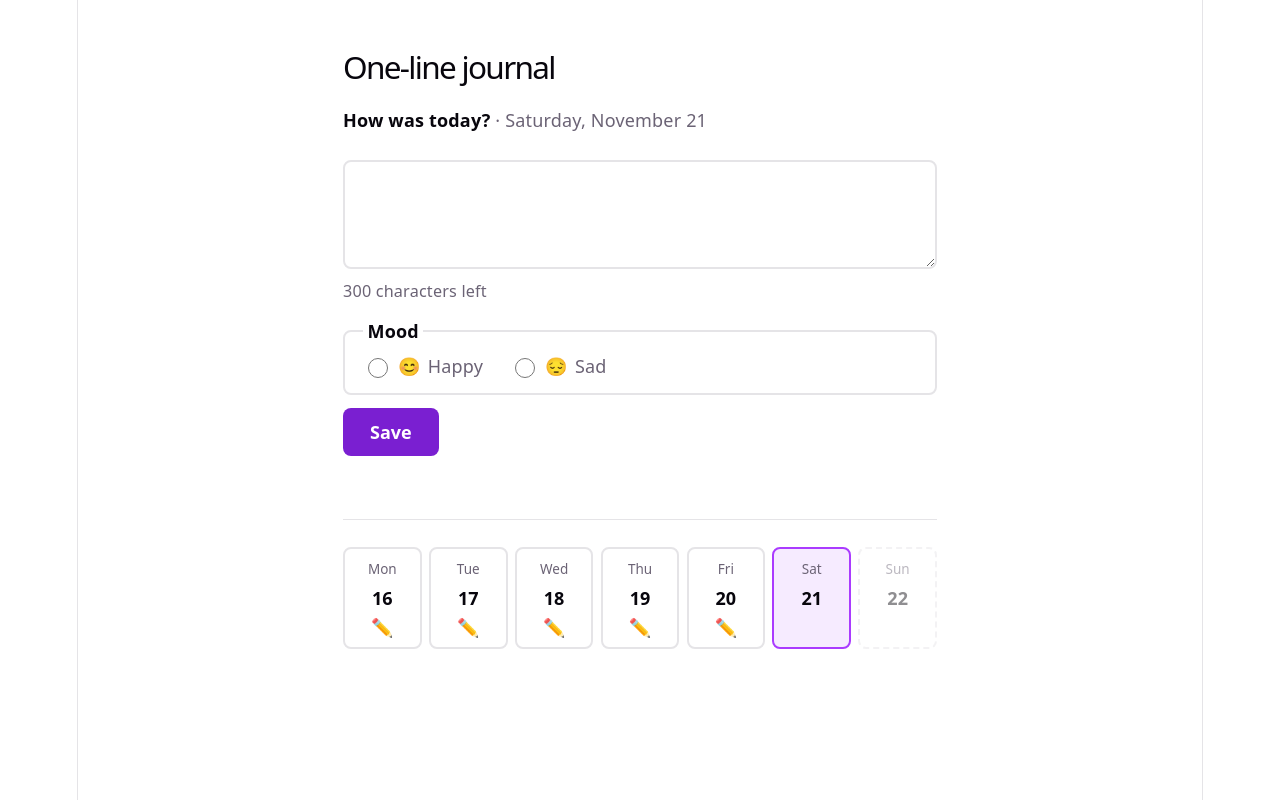
Test: week strip: label and switch note › note when switching days drops unsaved changes › names the past day when leaving it with unsaved text
Expected: the text box labelled "How was today? Saturday, November 21" is enabled, x1=343 y1=160 x2=937 y2=270
Click the button with aria-label "Tuesday". click: (468,598)
box: x1=429 y1=547 x2=508 y2=649
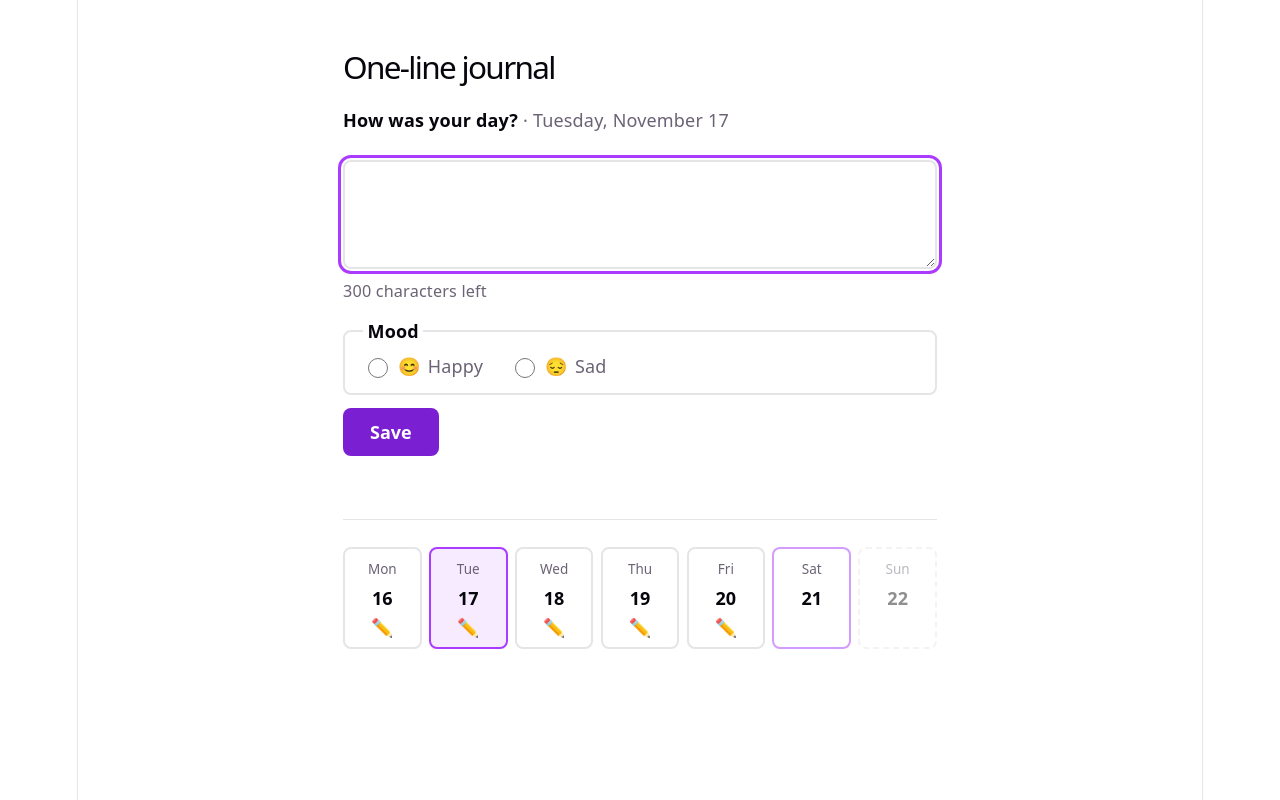
Type "tuesday draft" into the text box named "how was today". click: (640,215)
box: x1=343 y1=160 x2=937 y2=270
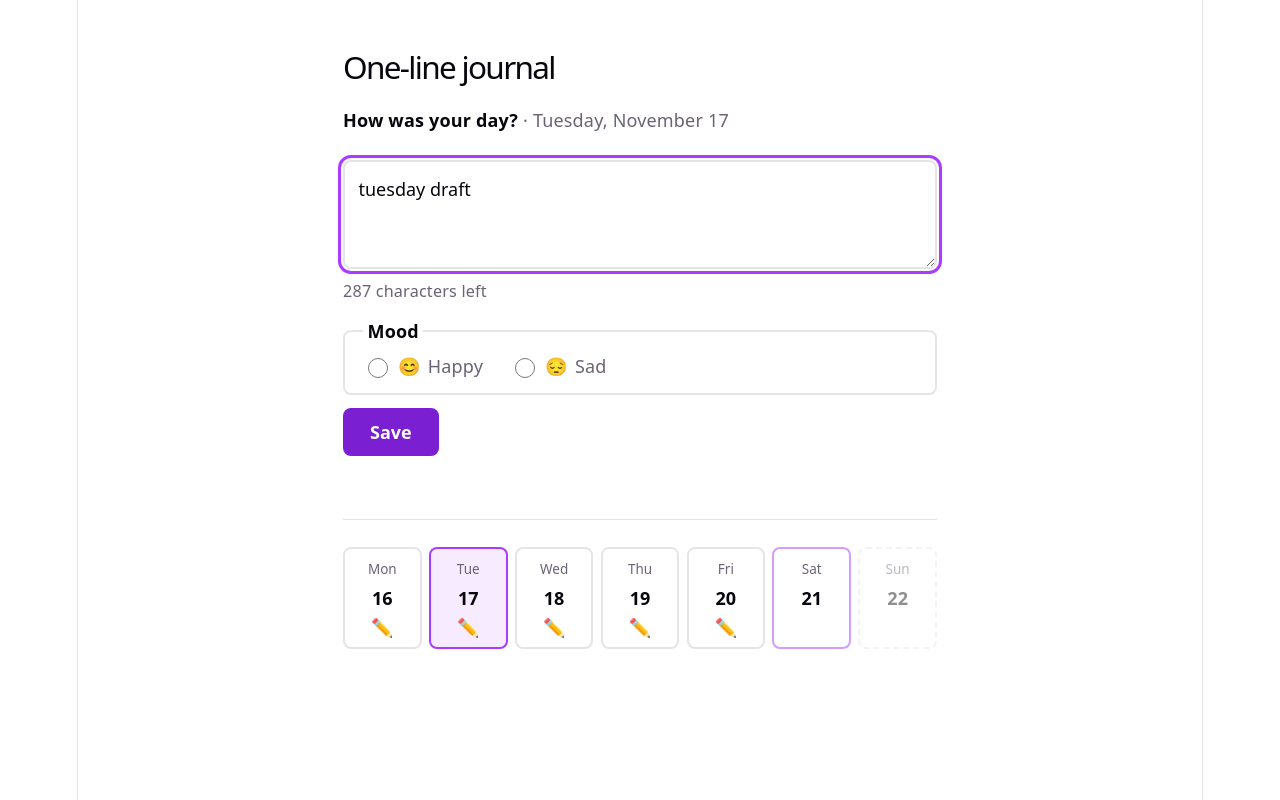
Click the button with aria-label "Wednesday". click: (554,598)
box: x1=515 y1=547 x2=594 y2=649
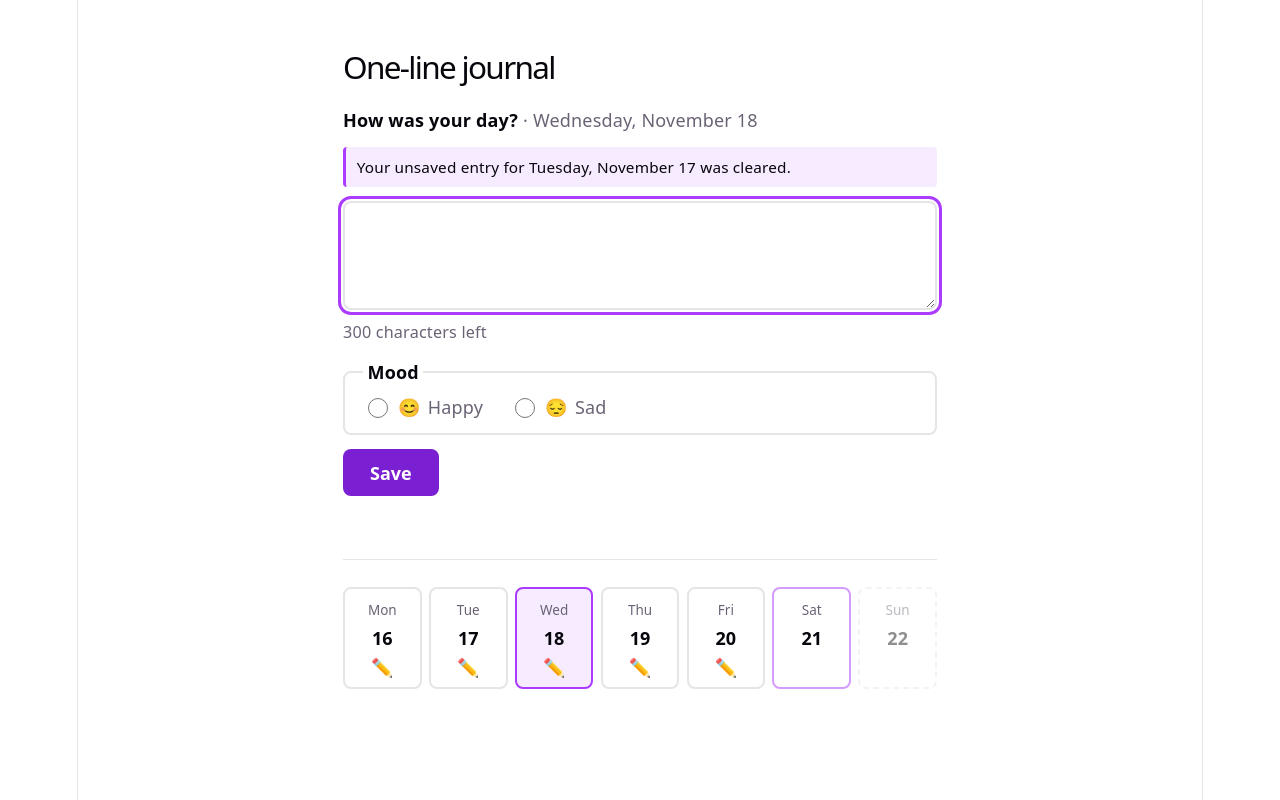
Expected: the text "Your unsaved entry for Tuesday, November 17 was cleared." is shown, x1=343 y1=147 x2=937 y2=187
